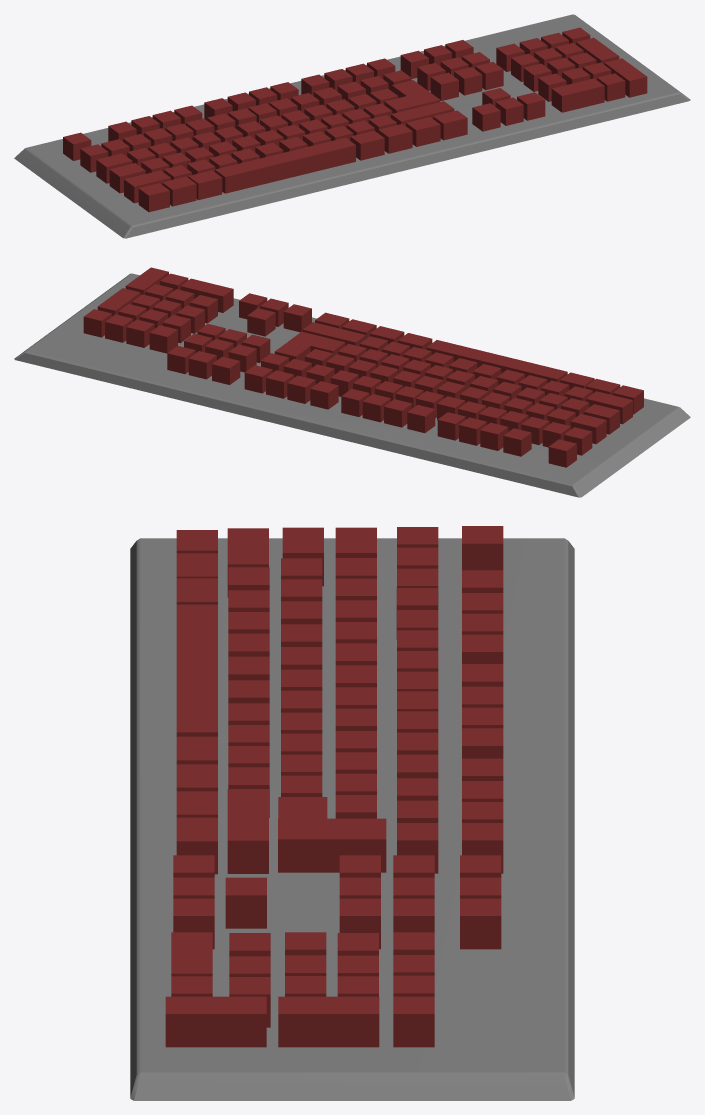
The model's file is keyboard.obj.
The picture shows the model from 3 angles, top to bottom: view 1: azimuth 30°, elevation 25°; view 2: azimuth 150°, elevation 25°; view 3: azimuth 270°, elevation 25°; orthographic projection. The views are drawn at different scales.
Visible parts, largest first — view 1: polySurface303; view 2: polySurface303; view 3: polySurface303.
Boxes of the visible parts, <box> form: polySurface303: <box>14,14,690,238</box>; polySurface303: <box>14,267,690,497</box>; polySurface303: <box>130,526,574,1100</box>.
Bounding box in the file's own units: 1.35 × 0.0606 × 0.4577.
